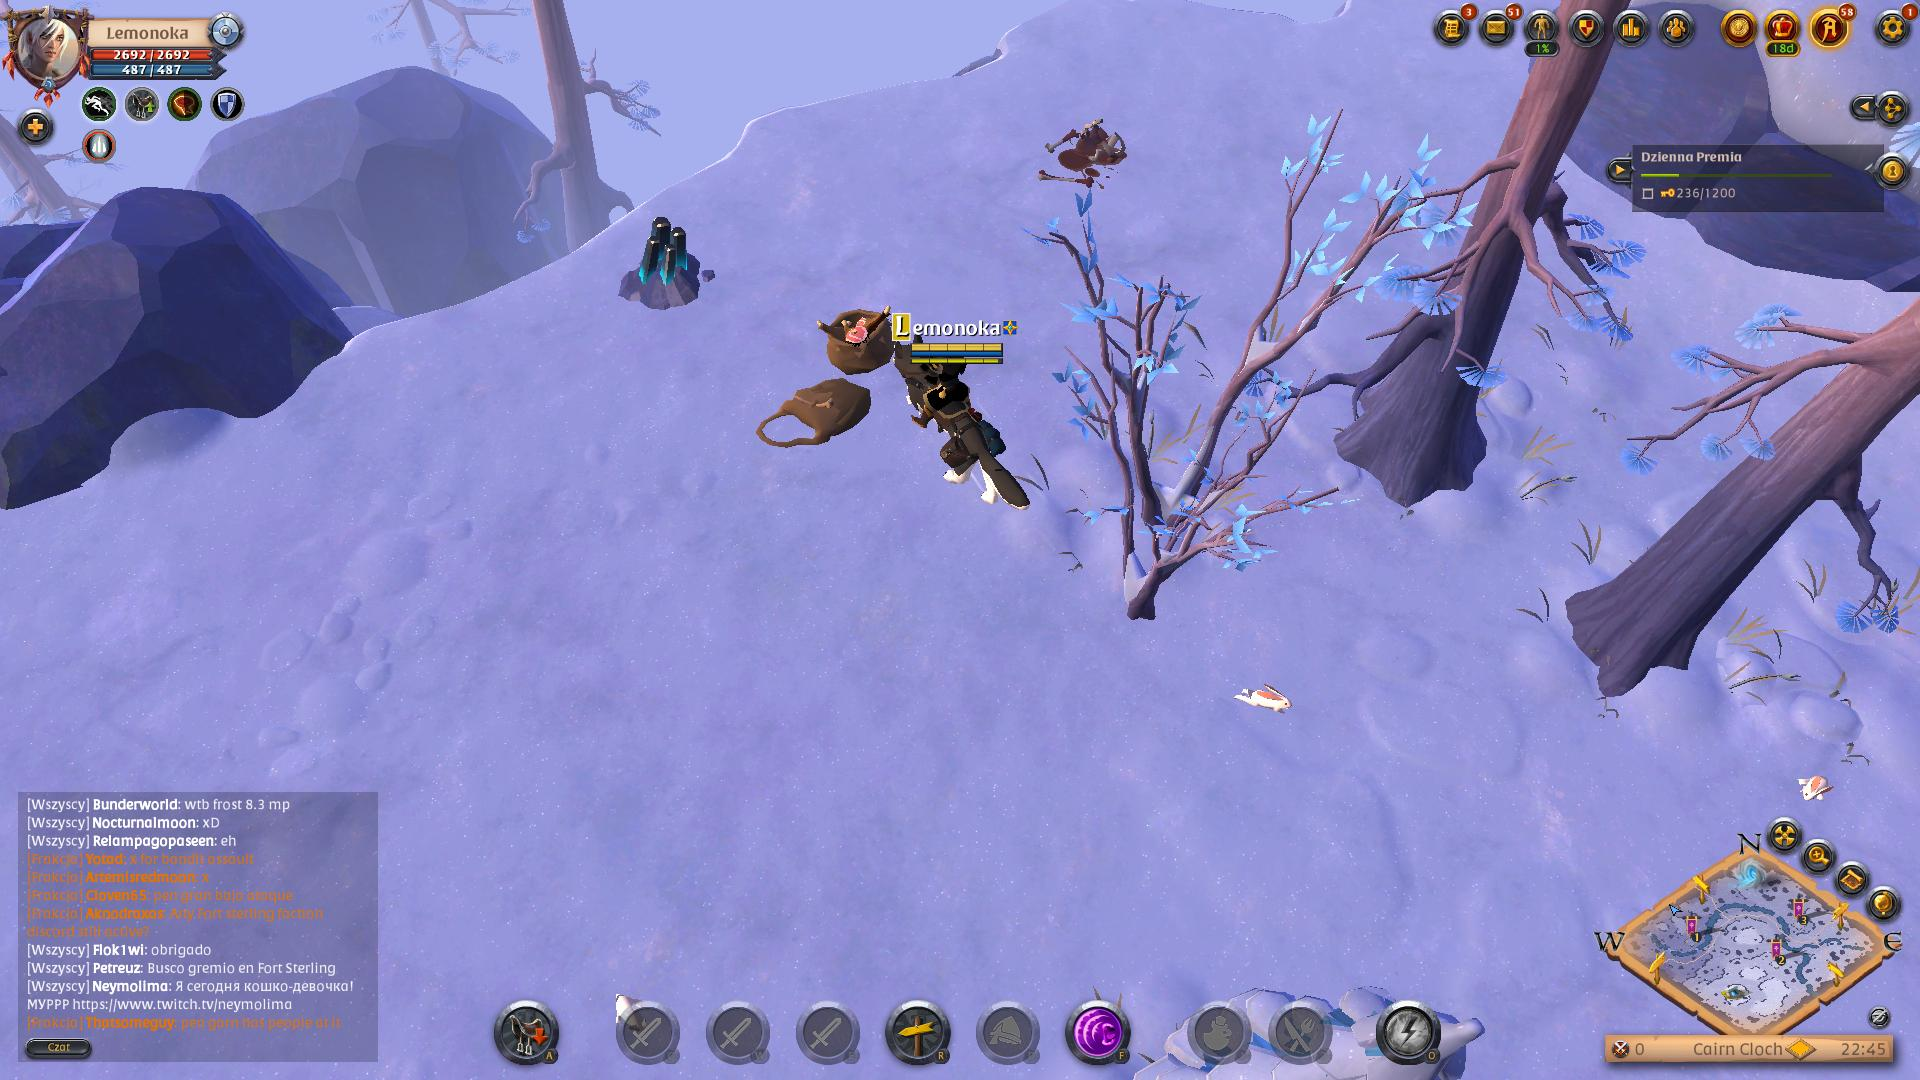ore tier 4: (616, 212, 725, 320)
